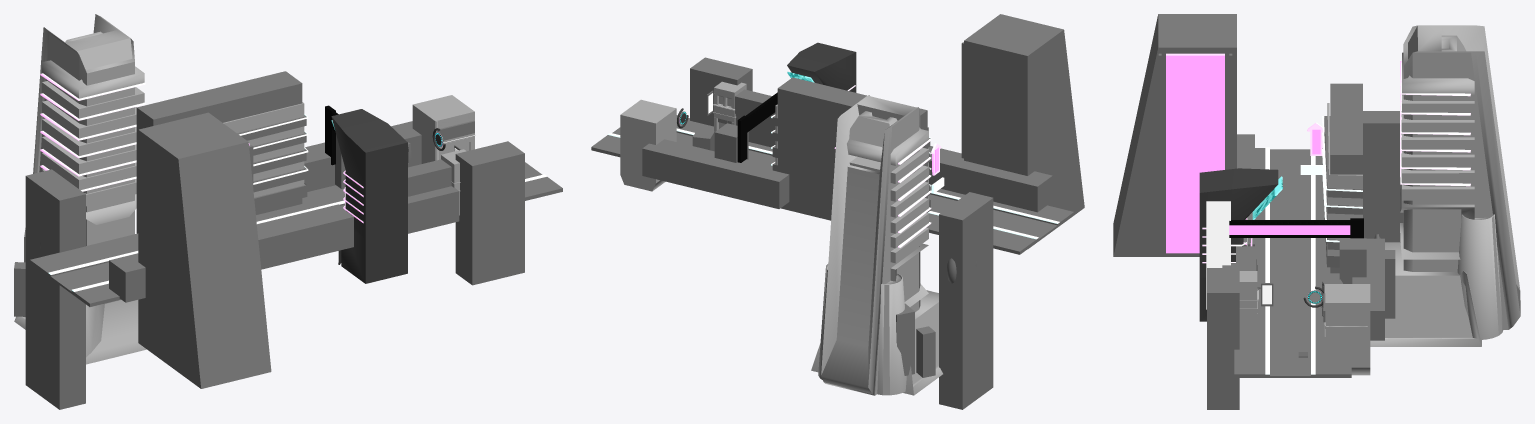
File: street.gltf
3 renders of one model, left to right at view 1: azimuth 30°, elevation 25°; view 2: azimuth 150°, elevation 25°; view 3: azimuth 270°, elevation 25°, orthographic. The views are drawn at different scales.
Visible parts, largest first — view 1: pasted__polySurface4391, pasted__pasted__pCube59, polySurface12, polySurface10, pCube51, pCube51.002, polySurface3, pCube16, pCube51.003, pCube51.001, pCube65, polySurface4 (+1 smaller); view 2: pasted__polySurface4391, pasted__pasted__pCube59, polySurface12, pCube51.001, polySurface3, pCube51.002, pCube16, polySurface10, pCube51, polySurface27, polySurface1, pCube47 (+3 smaller); view 3: pasted__polySurface4391, pasted__pasted__pCube59, polySurface3, polySurface12, polySurface10, pCube51, pCube16, polySurface27, pCube51.001, pCube47, polySurface1, polySurface4 (+3 smaller).
Part boxes in pixels (x1,y1,x2,y2): pasted__polySurface4391: (14,14,146,409); pasted__pasted__pCube59: (138,112,271,388); polySurface12: (136,71,308,233); polySurface10: (331,109,407,283); pCube51: (455,141,524,285); pCube51.002: (109,204,353,302); polySurface3: (30,162,562,306); pCube16: (412,95,474,163); pCube51.003: (408,186,459,233); pCube51.001: (304,121,421,191); pCube65: (408,159,451,196); polySurface4: (48,200,344,274); pasted__polySurface4391: (811,95,993,409); pasted__pasted__pCube59: (961,14,1084,248); polySurface12: (771,77,944,220); pCube51.001: (642,139,789,208); polySurface3: (591,115,1074,254); pCube51.002: (929,146,1052,212); pCube16: (620,99,676,191); polySurface10: (787,42,856,92); pCube51: (690,57,752,126); polySurface27: (737,92,777,162); polySurface1: (713,81,746,131); pCube47: (714,123,748,162); pasted__polySurface4391: (1363,25,1520,346); pasted__pasted__pCube59: (1113,14,1236,256); polySurface3: (1234,148,1351,377); polySurface12: (1300,83,1362,273); polySurface10: (1199,168,1282,321); pCube51: (1207,268,1239,409); pCube16: (1325,284,1370,375); polySurface27: (1229,218,1363,238); pCube51.001: (1352,238,1384,340); pCube47: (1339,238,1366,283); polySurface1: (1239,271,1258,332); polySurface4: (1311,156,1315,374).
Size of the model in its own units: 1.39 by 0.9023 by 1.06.
Materials: 20 (1 with a texture image).
